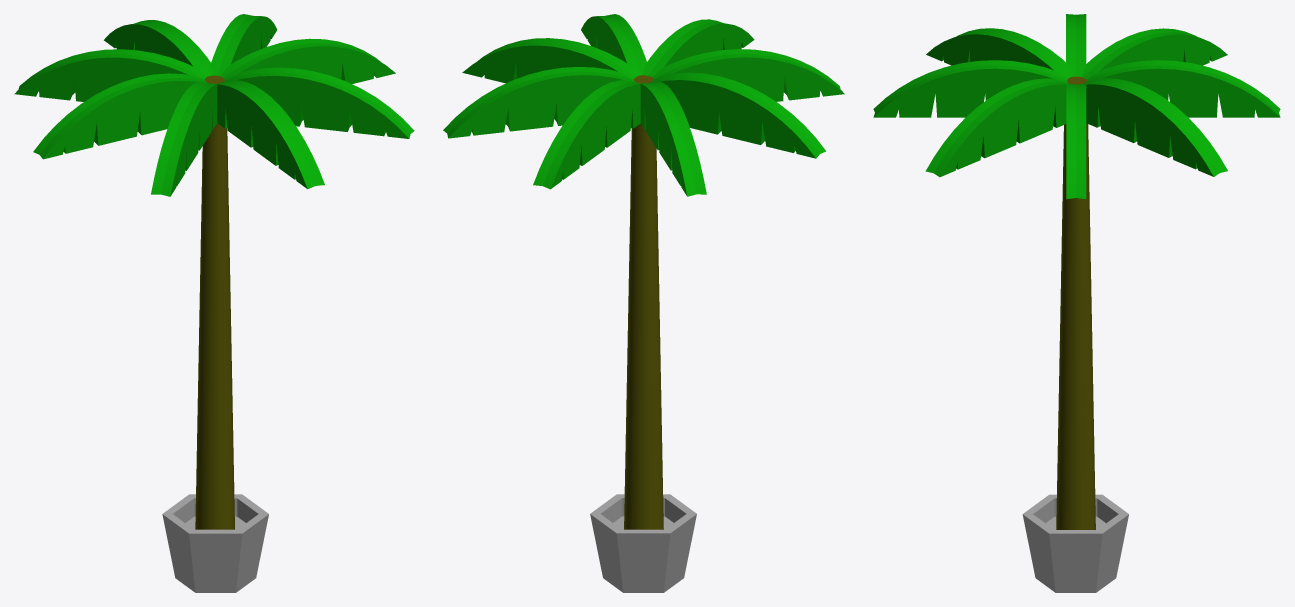
Rendered from PalmTree.gltf.
3 views of the same model, side by side, from view 1: azimuth 30°, elevation 25°; view 2: azimuth 150°, elevation 25°; view 3: azimuth 270°, elevation 25° (orthographic).
Visible parts, largest first — view 1: Trunk, Pot, Leave002, Leave005, Leave003, Leave006, Leave, Leave007, Leave001, Leave004; view 2: Trunk, Pot, Leave002, Leave004, Leave001, Leave007, Leave, Leave006, Leave003, Leave005; view 3: Trunk, Pot, Leave004, Leave005, Leave003, Leave001, Leave007, Leave006, Leave, Leave002.
Part boxes in pixels (bbox=[...]): Trunk: bbox=[195, 75, 234, 529]; Pot: bbox=[162, 494, 268, 592]; Leave002: bbox=[33, 73, 208, 159]; Leave005: bbox=[224, 67, 414, 138]; Leave003: bbox=[216, 80, 324, 189]; Leave006: bbox=[14, 49, 206, 101]; Leave: bbox=[220, 38, 395, 83]; Leave007: bbox=[151, 82, 217, 196]; Leave001: bbox=[104, 20, 212, 76]; Leave004: bbox=[210, 14, 277, 76]; Trunk: bbox=[624, 75, 663, 529]; Pot: bbox=[590, 494, 696, 592]; Leave002: bbox=[650, 72, 825, 158]; Leave004: bbox=[443, 67, 635, 138]; Leave001: bbox=[533, 80, 640, 189]; Leave007: bbox=[652, 49, 844, 101]; Leave: bbox=[462, 38, 638, 83]; Leave006: bbox=[639, 82, 706, 196]; Leave003: bbox=[643, 19, 754, 76]; Leave005: bbox=[581, 14, 646, 75]; Trunk: bbox=[1056, 76, 1095, 529]; Pot: bbox=[1022, 494, 1128, 592]; Leave004: bbox=[1083, 78, 1227, 176]; Leave005: bbox=[925, 78, 1068, 177]; Leave003: bbox=[873, 60, 1067, 117]; Leave001: bbox=[1086, 60, 1280, 117]; Leave007: bbox=[926, 28, 1071, 78]; Leave006: bbox=[1081, 28, 1227, 79]; Leave: bbox=[1066, 84, 1086, 199]; Leave002: bbox=[1066, 14, 1086, 76].
Bounding box in the file's own units: 4.03 × 5.62 × 4.03.
